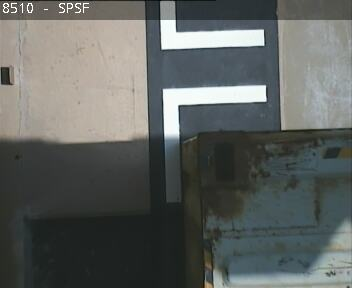groundmarker_1: (158, 1, 266, 202)
